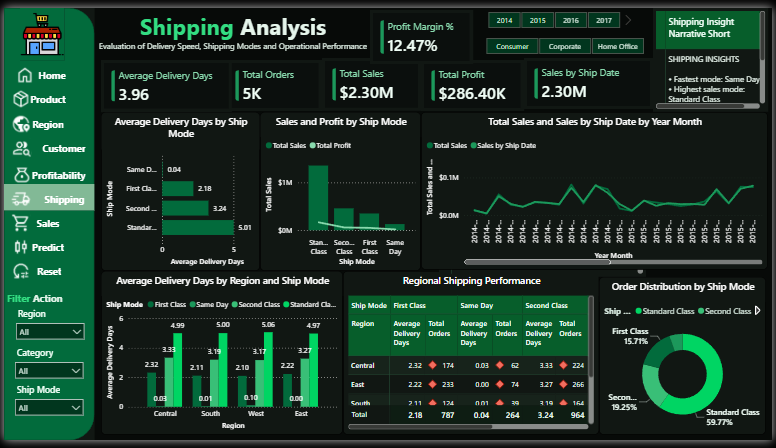

What the dashboard file says about the page in this screenshot:
{"tool":"powerbi","page":{"name":"Shipping Analysis","canvas":[1280,720],"ordinal":6},"visuals":[{"type":"textbox","box":[150,0,463.3,86.7],"z":0},{"type":"shape","box":[0,0,150.6,720.5],"z":1000},{"type":"cardVisual","fields":{"Data":["_Measures.Total Sales"]},"box":[530,83.3,165,88.3],"z":2000},{"type":"cardVisual","fields":{"Data":["_Measures.Total Profit"]},"box":[695,86.7,171.7,85],"z":3000},{"type":"cardVisual","fields":{"Data":["_Measures.Profit Margin %"]},"box":[610,3.3,171.7,90],"z":4000},{"type":"cardVisual","fields":{"Data":["_Measures.Total Orders"]},"box":[368.3,86.7,161.7,85],"z":5000},{"type":"cardVisual","fields":{"Data":["_Measures.Sales by Ship Date"]},"box":[866.7,83.3,215,85],"z":6000},{"type":"cardVisual","fields":{"Data":["_Measures.Average Delivery Days"]},"box":[161.7,86.7,218.3,86.7],"z":7000},{"type":"textbox","box":[0,468,160.9,35.4],"z":8000},{"type":"slicer","fields":{"Values":["DimLocation.Region"]},"box":[10.3,493.1,134.3,65],"z":9000},{"type":"slicer","fields":{"Values":["DimProduct.Category"]},"box":[8.9,558.1,134.3,62],"z":10000},{"type":"slicer","fields":{"Values":["DimShipMode.Ship Mode"]},"box":[8.9,620.1,134.3,59.1],"z":11000},{"type":"actionButton","title":"Home","box":[10.3,212.6,129.9,39.9],"z":12000},{"type":"actionButton","box":[8.9,417.8,134.3,39.9],"z":13000},{"type":"actionButton","title":"Home","box":[8.9,172.7,129.9,39.9],"z":14000},{"type":"actionButton","title":"Home","box":[8.9,131.4,129.9,39.9],"z":15000},{"type":"actionButton","title":"Home","box":[10.3,258.4,129.9,39.9],"z":16000},{"type":"actionButton","title":"Home","box":[8.9,338.1,129.9,39.9],"z":17000},{"type":"shape","box":[0,293.8,150.6,44.3],"z":18000},{"type":"actionButton","title":"Home","box":[8.9,377.9,129.9,39.9],"z":19000},{"type":"actionButton","title":"Home","box":[14.8,91.5,129.9,39.9],"z":20000},{"type":"actionButton","title":"Home","box":[8.9,298.2,129.9,39.9],"z":21000},{"type":"slicer","fields":{"Values":["DimDate.Year"]},"box":[781.7,0,269.3,40.3],"z":22000},{"type":"slicer","fields":{"Values":["DimCustomer.Segment"]},"box":[778.3,43.3,311.7,36.7],"z":23000},{"type":"clusteredBarChart","title":"Average Delivery Days by Ship Mode","fields":{"Category":["DimShipMode.Ship Mode"],"Y":["_Measures.Average Delivery Days"]},"box":[161.7,173.3,265,265],"z":24000},{"type":"lineClusteredColumnComboChart","title":"Sales and Profit by Ship Mode","fields":{"Category":["DimShipMode.Ship Mode"],"Y":["_Measures.Total Sales"],"Y2":["_Measures.Total Profit"]},"box":[426.7,173.3,268.3,265],"z":25000},{"type":"donutChart","title":"Order Distribution by Ship Mode","fields":{"Category":["DimShipMode.Ship Mode"],"Y":["_Measures.Total Orders"]},"box":[991.7,448.3,278.3,263.3],"z":26000},{"type":"clusteredColumnChart","title":"Average Delivery Days by Region and Ship Mode","fields":{"Category":["DimLocation.Region"],"Y":["_Measures.Average Delivery Days"],"Series":["DimShipMode.Ship Mode"]},"box":[161.7,438.3,403.3,273.3],"z":27000},{"type":"pivotTable","title":"Regional Shipping Performance","fields":{"Rows":["DimLocation.Region"],"Columns":["DimShipMode.Ship Mode"],"Values":["_Measures.Average Delivery Days","_Measures.Total Orders"]},"box":[565,438.3,426.7,273.3],"z":28000},{"type":"pivotTable","fields":{"Values":["_Measures.Shipping Insight Narrative Short"]},"box":[725,365,345,83.3],"z":29000},{"type":"lineChart","fields":{"Category":["DimDate.Year Month"],"Y":["_Measures.Total Sales","_Measures.Sales by Ship Date"]},"box":[695,173.3,578.3,263.3],"z":30000},{"type":"pivotTable","fields":{"Values":["_Measures.Shipping Insight Narrative Short"]},"box":[1081.7,0,191.7,173.3],"z":31000},{"type":"image","box":[26.6,0,73.8,87.1],"z":32000}]}

Visuals, with their boxes on the page's 1280x720 design canvas (x1, y1, x2, y2). These are canvas units, not pixel positions in the 776x448 screenshot, which may show the page scaled, cropped or inside an application window:
textbox: 150 0 613 87
shape: 0 0 151 720
cardVisual - _Measures.Total Sales: 530 83 695 172
cardVisual - _Measures.Total Profit: 695 87 867 172
cardVisual - _Measures.Profit Margin %: 610 3 782 93
cardVisual - _Measures.Total Orders: 368 87 530 172
cardVisual - _Measures.Sales by Ship Date: 867 83 1082 168
cardVisual - _Measures.Average Delivery Days: 162 87 380 173
textbox: 0 468 161 503
slicer - DimLocation.Region: 10 493 145 558
slicer - DimProduct.Category: 9 558 143 620
slicer - DimShipMode.Ship Mode: 9 620 143 679
"Home" actionButton: 10 213 140 252
actionButton: 9 418 143 458
"Home" actionButton: 9 173 139 213
"Home" actionButton: 9 131 139 171
"Home" actionButton: 10 258 140 298
"Home" actionButton: 9 338 139 378
shape: 0 294 151 338
"Home" actionButton: 9 378 139 418
"Home" actionButton: 15 92 145 131
"Home" actionButton: 9 298 139 338
slicer - DimDate.Year: 782 0 1051 40
slicer - DimCustomer.Segment: 778 43 1090 80
"Average Delivery Days by Ship Mode" clusteredBarChart: 162 173 427 438
"Sales and Profit by Ship Mode" lineClusteredColumnComboChart: 427 173 695 438
"Order Distribution by Ship Mode" donutChart: 992 448 1270 712
"Average Delivery Days by Region and Ship Mode" clusteredColumnChart: 162 438 565 712
"Regional Shipping Performance" pivotTable: 565 438 992 712
pivotTable - _Measures.Shipping Insight Narrative Short: 725 365 1070 448
lineChart - DimDate.Year Month x _Measures.Total Sales: 695 173 1273 437
pivotTable - _Measures.Shipping Insight Narrative Short: 1082 0 1273 173
image: 27 0 100 87
